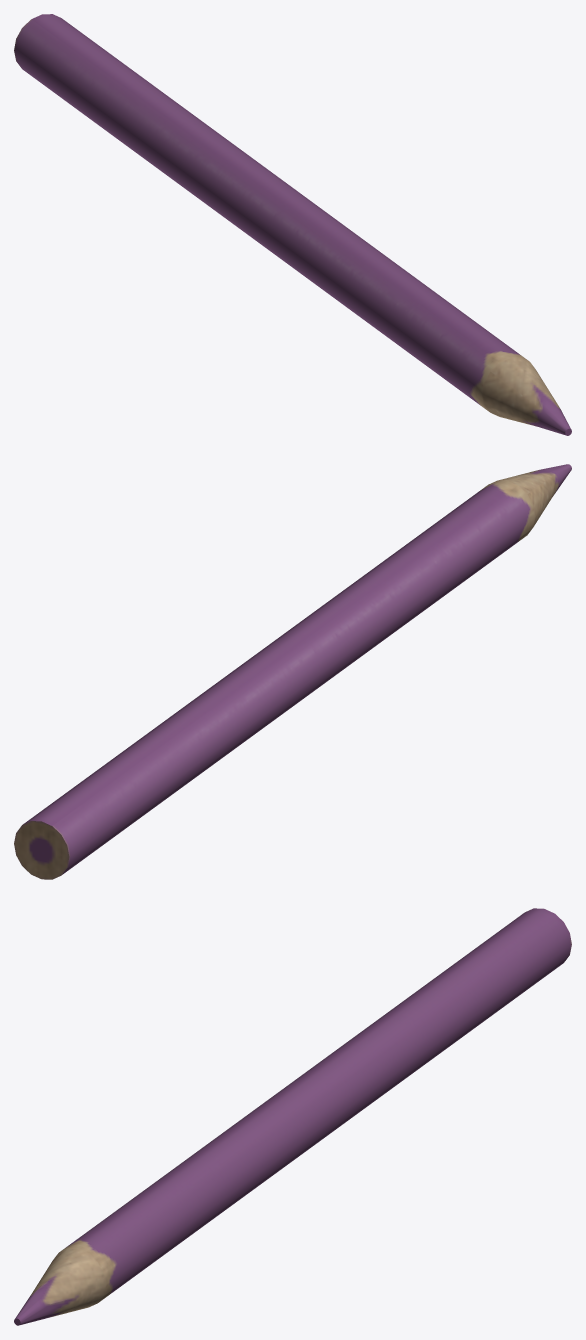
Rendered from SM_Crayon01.fbx.
The picture shows the model from 3 angles, top to bottom: view 1: azimuth 30°, elevation 25°; view 2: azimuth 150°, elevation 25°; view 3: azimuth 330°, elevation 25°; orthographic projection.
Visible parts, largest first — view 1: SM_Crayon01_LOD0; view 2: SM_Crayon01_LOD0; view 3: SM_Crayon01_LOD0.
Part boxes in pixels (bbox=[...]): SM_Crayon01_LOD0: bbox=[14, 14, 571, 435]; SM_Crayon01_LOD0: bbox=[14, 464, 571, 879]; SM_Crayon01_LOD0: bbox=[14, 908, 571, 1325].
Size of the model in its own units: 1.11 by 17.89 by 1.09.
1 material, 1 textured.
